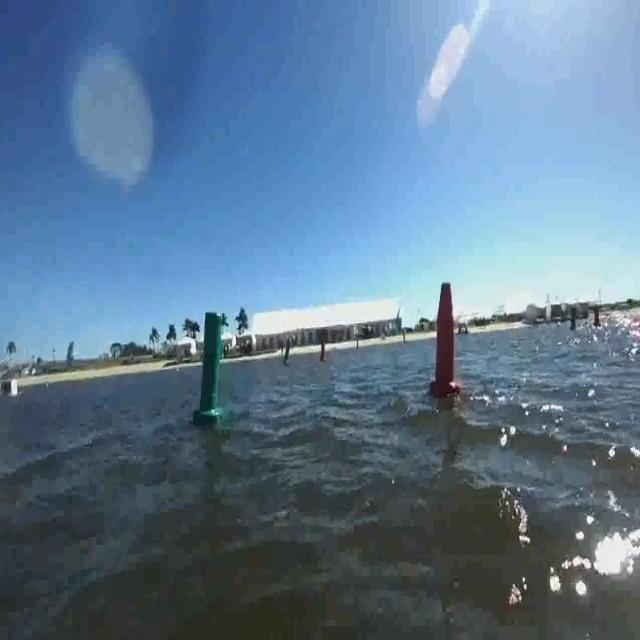green-column-buoy: (198, 309, 228, 422)
red-column-buoy: (432, 278, 463, 398)
